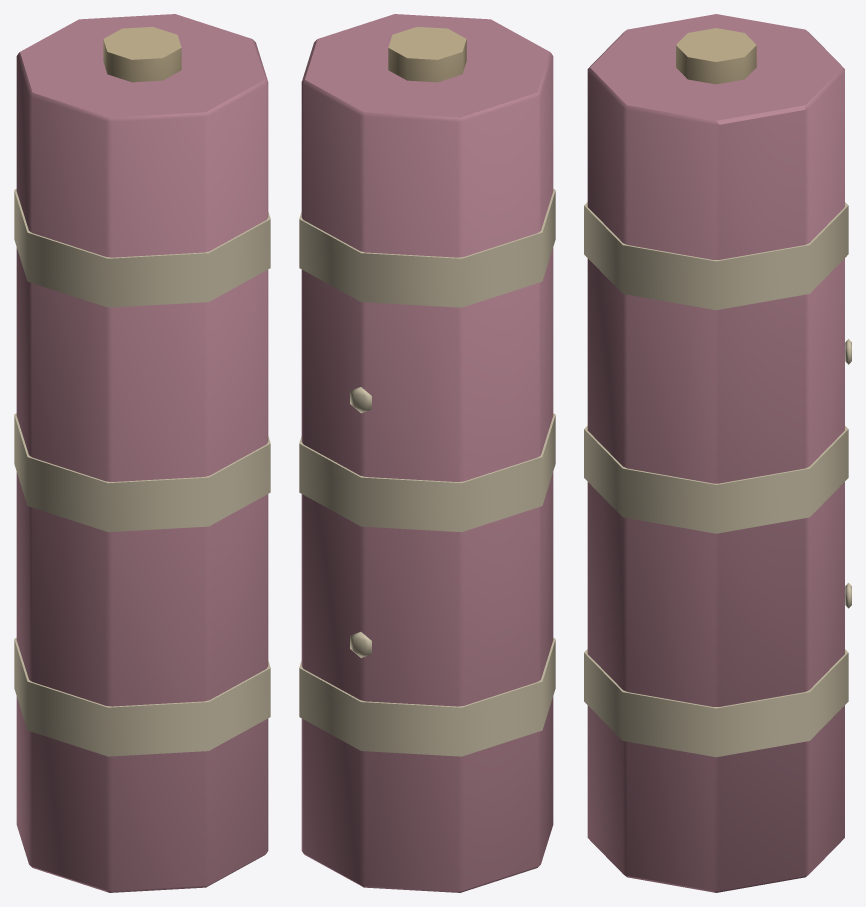
Rendered from gift_wrap_low.glb.
3 renders of one model, left to right at view 1: azimuth 30°, elevation 25°; view 2: azimuth 150°, elevation 25°; view 3: azimuth 270°, elevation 25°, orthographic.
Size of the model in its own units: 0.118 by 0.391 by 0.1195.
